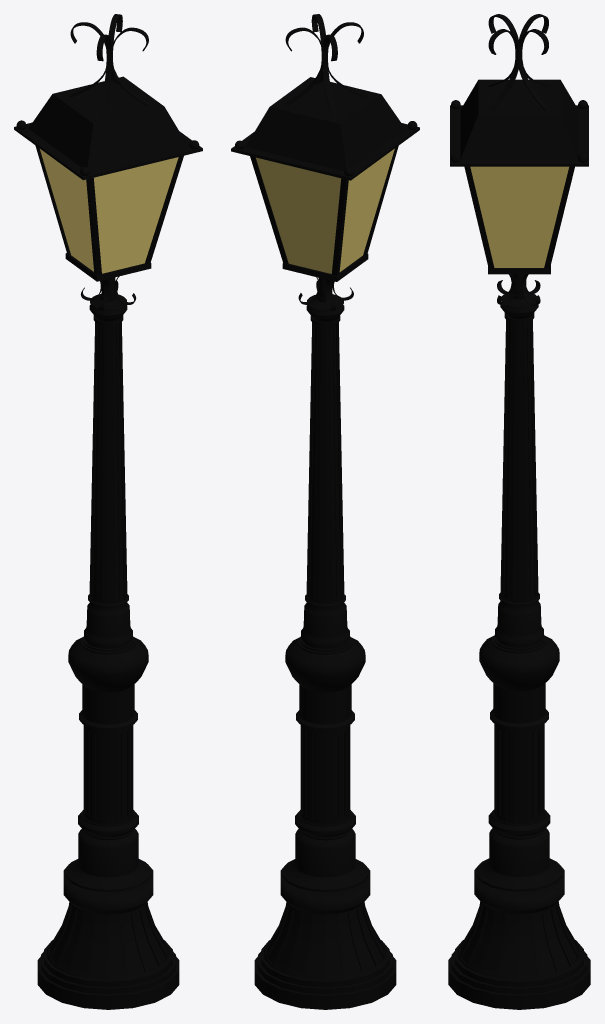
The model's file is stm_lightPole.FBX.
3 views of the same model, side by side, from view 1: azimuth 30°, elevation 25°; view 2: azimuth 150°, elevation 25°; view 3: azimuth 270°, elevation 25° (orthographic).
Parts seen in each view (by area): view 1: Box005; view 2: Box005; view 3: Box005.
Boxes of the visible parts, x1=… form: Box005: x1=14, y1=14, x2=202, y2=1009; Box005: x1=231, y1=14, x2=419, y2=1009; Box005: x1=448, y1=14, x2=590, y2=1009.
Bounding box in the file's own units: 100 × 730 × 98.48.
